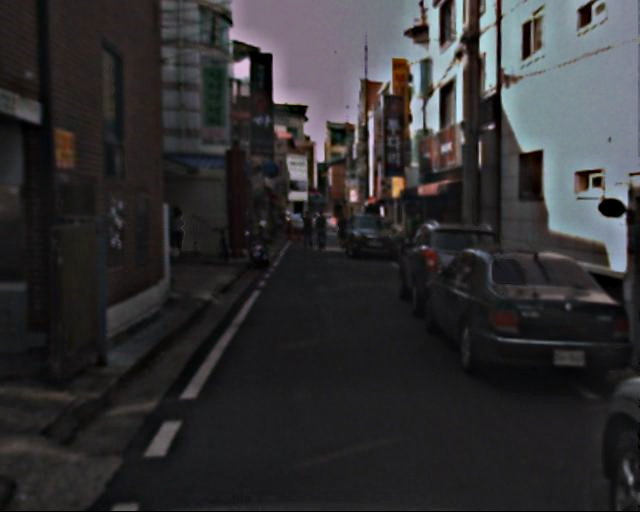person: (166, 206, 189, 261), (313, 209, 331, 252), (300, 210, 317, 251), (334, 213, 349, 250)
